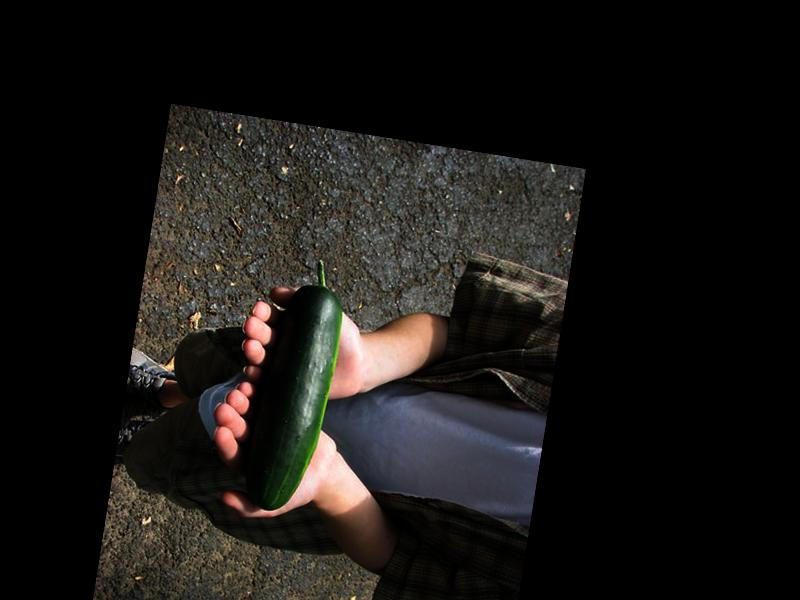Cucumber: (239, 251, 350, 515)
